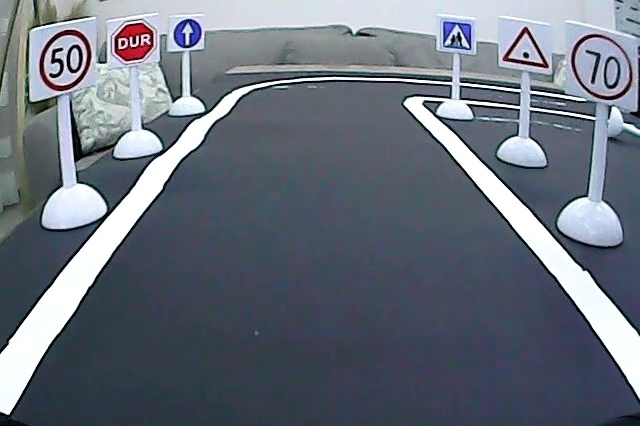green light: (501, 22, 552, 70)
school crossing: (439, 16, 474, 51)
speed limit 50: (37, 27, 94, 93)
speed limit 70: (570, 31, 637, 107)
stop sign: (109, 18, 158, 65)
